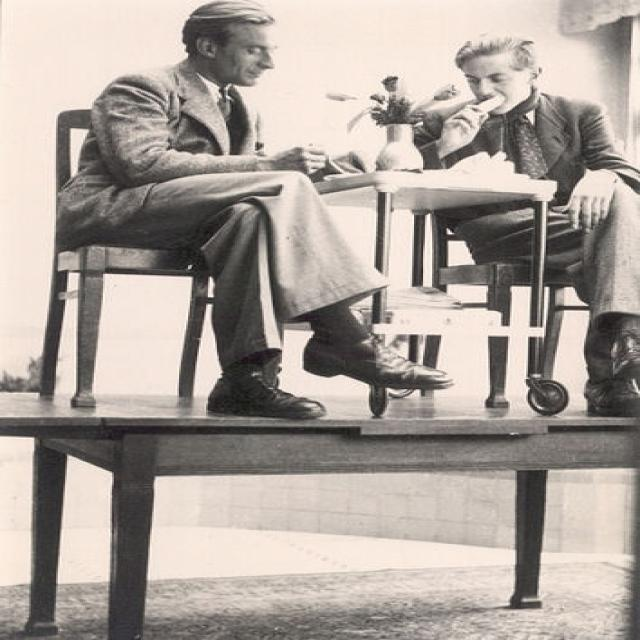chair: (36, 110, 213, 412), (419, 232, 591, 410)
diningtable: (1, 393, 639, 640)
person: (55, 1, 455, 421), (410, 35, 639, 419)
